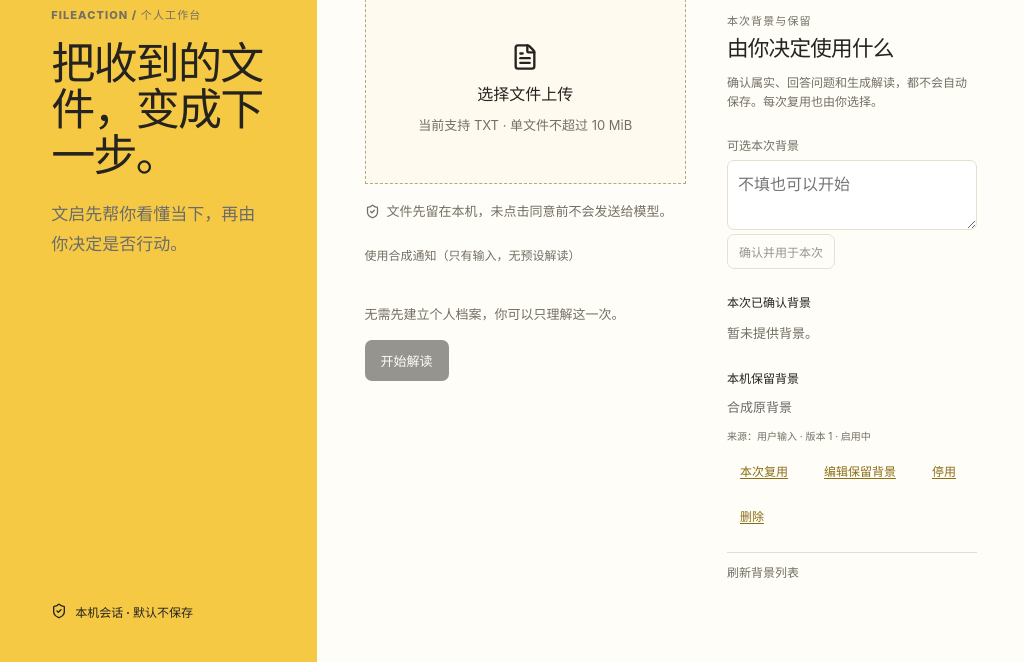
Test case: 个人 MVP 前端 › 保留背景编辑失败时保留输入，成功保存后退出编辑
The width and height of the screenshot is (1024, 662).
(page scrolled)
Click the button "编辑保留背景".
click(860, 470)  # box [811, 452, 909, 488]
(page scrolled)
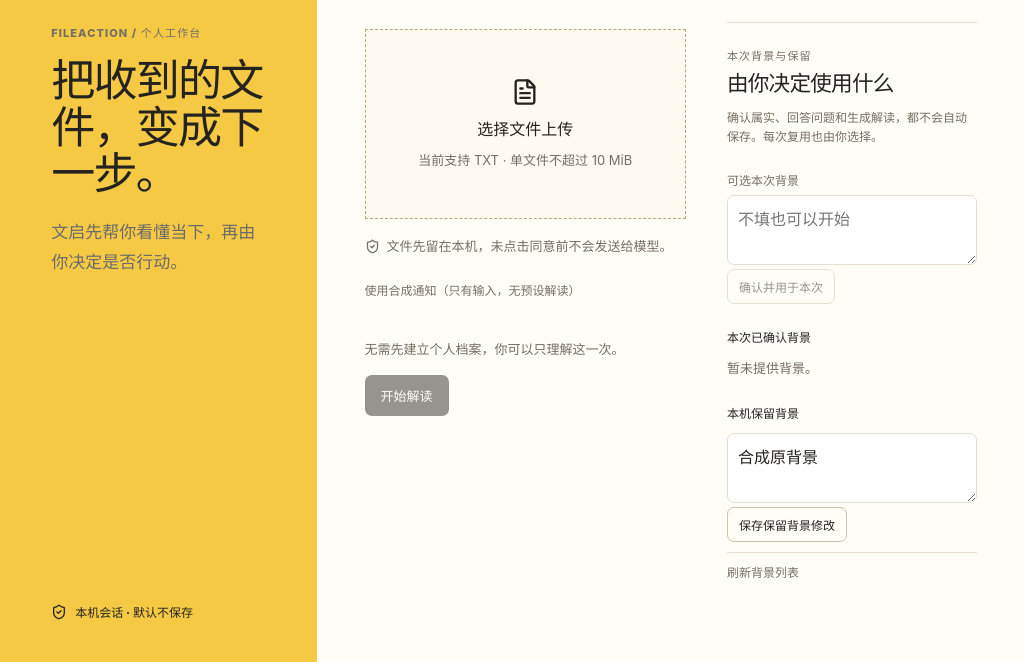
Replace the text in the text box named "编辑保留背景" with "合成修改草稿" at point(852, 468), box [727, 433, 977, 503]
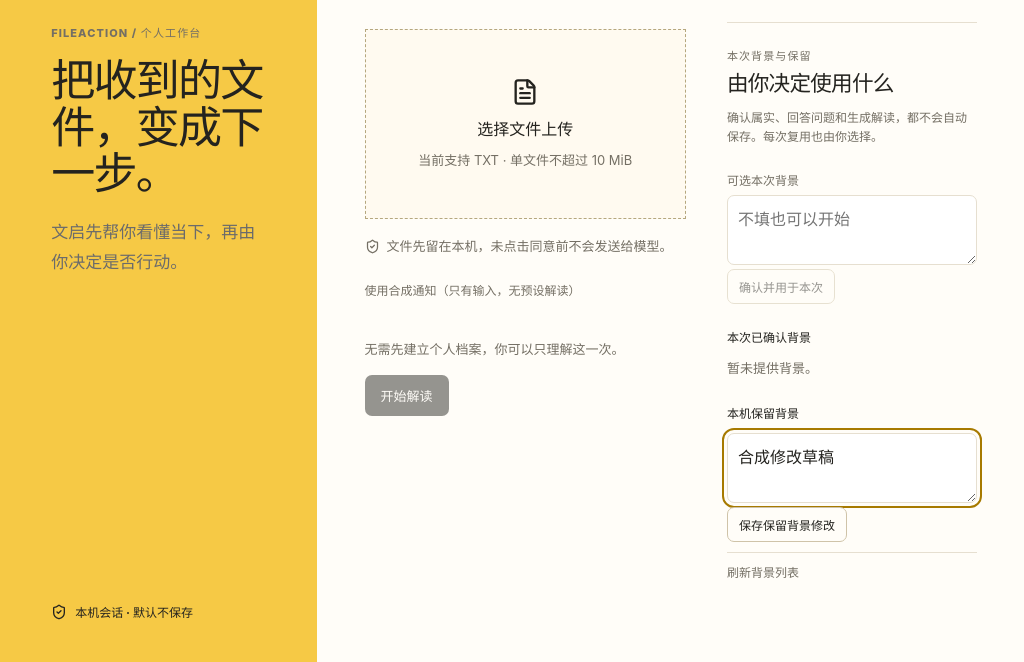
Click the button "保存保留背景修改".
click(787, 524)  # box [727, 507, 847, 542]
(page scrolled)
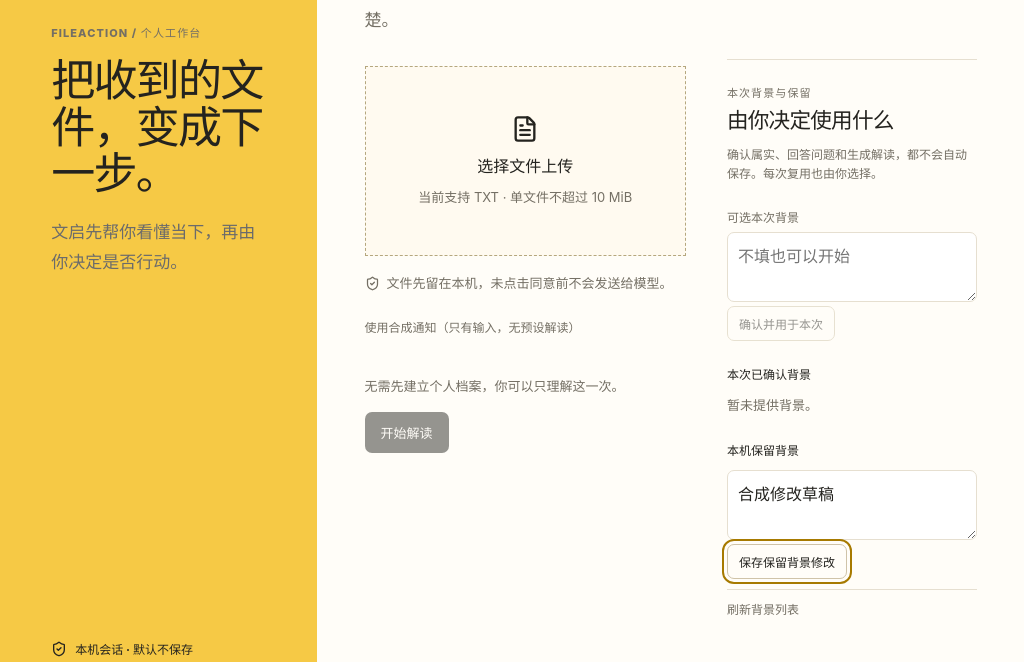
Click the button "保存保留背景修改".
click(787, 562)  # box [727, 544, 847, 579]
(page scrolled)
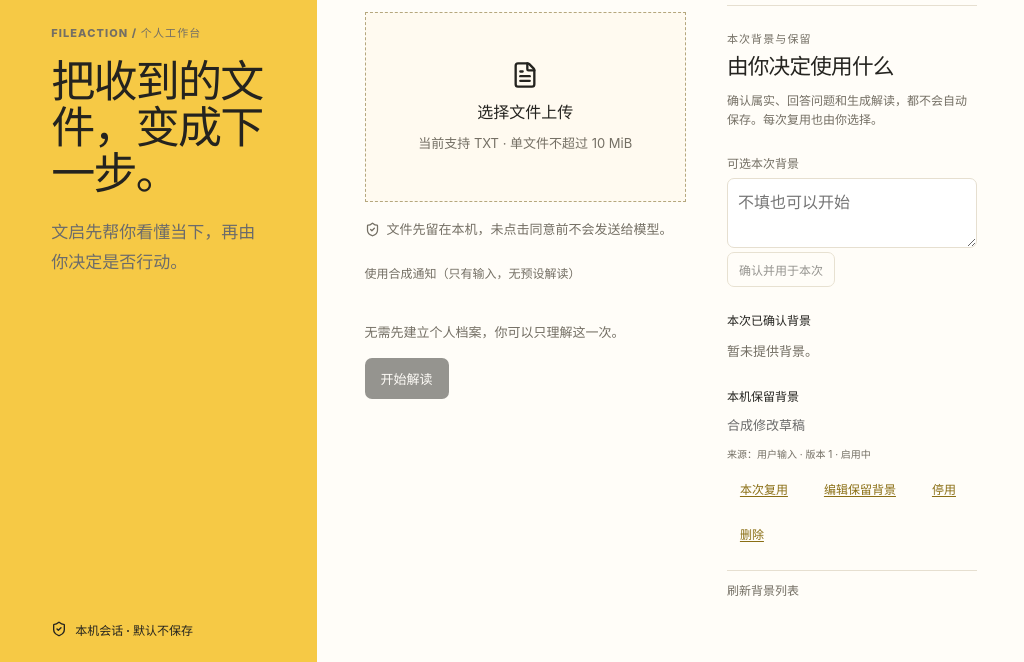
Check: the button "本次复用" is shown, box [727, 470, 801, 506]
